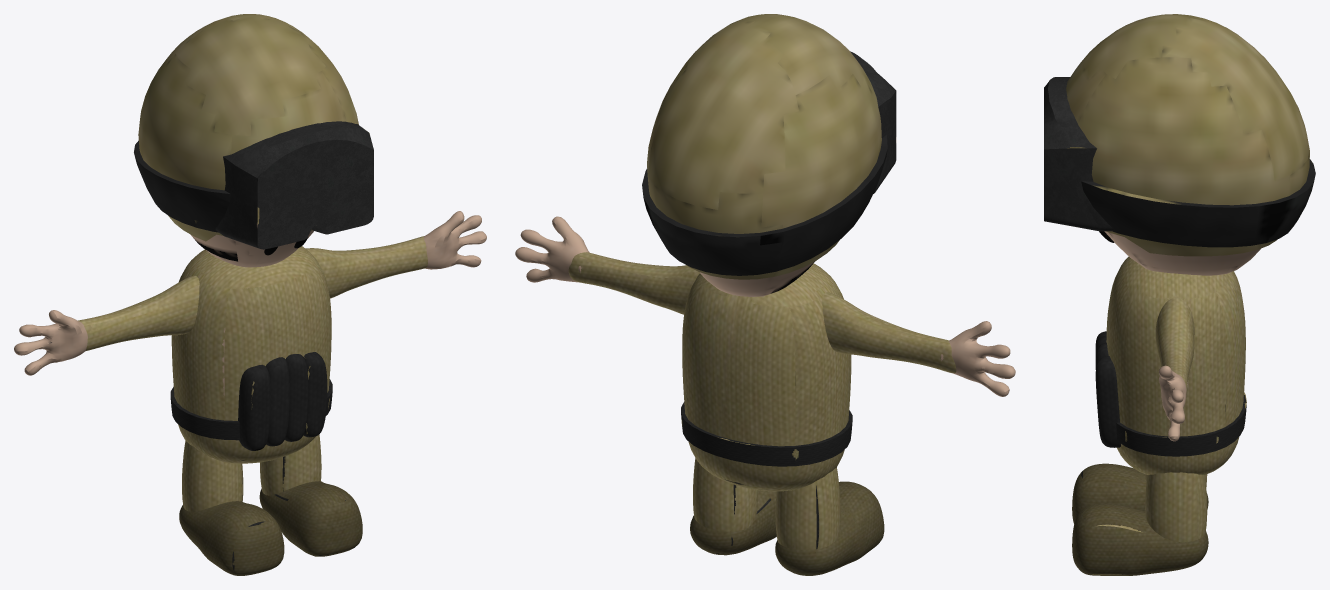
File: ExportChar.fbx
The picture shows the model from 3 angles, left to right: view 1: azimuth 30°, elevation 25°; view 2: azimuth 150°, elevation 25°; view 3: azimuth 270°, elevation 25°; orthographic projection. The views are drawn at different scales.
Parts seen in each view (by area): view 1: MainBody.002; view 2: MainBody.002; view 3: MainBody.002.
Part boxes in pixels (x1=…): MainBody.002: x1=14, y1=14, x2=486, y2=575; MainBody.002: x1=515, y1=14, x2=1015, y2=575; MainBody.002: x1=1044, y1=14, x2=1315, y2=575.
Size of the model in its own units: 271 by 282 by 132.
1 material, 1 textured.
